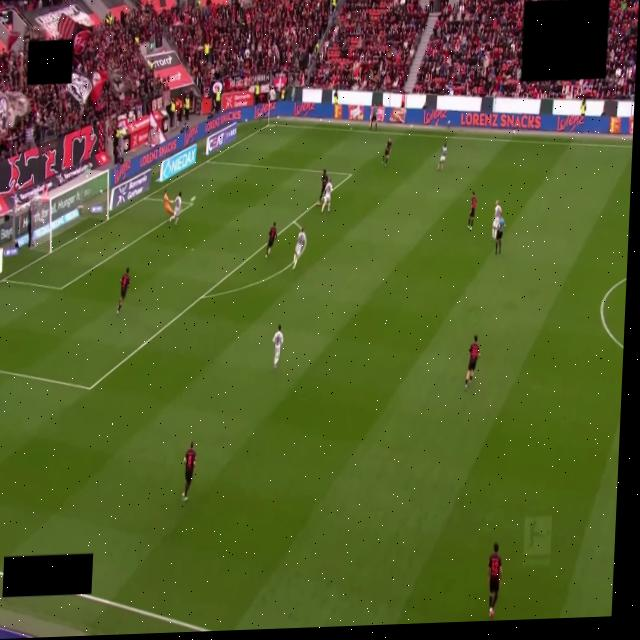ball: (190, 198, 195, 203)
player: (488, 543, 502, 617), (182, 441, 196, 501), (465, 336, 480, 388), (291, 222, 306, 270), (492, 200, 505, 253), (318, 171, 332, 212), (117, 269, 130, 313), (164, 194, 181, 222), (273, 325, 283, 368), (168, 192, 181, 223), (266, 222, 277, 256), (267, 222, 277, 257), (295, 231, 306, 262), (468, 192, 476, 229), (382, 138, 392, 165), (437, 143, 447, 170)
referee: (495, 217, 505, 253)
